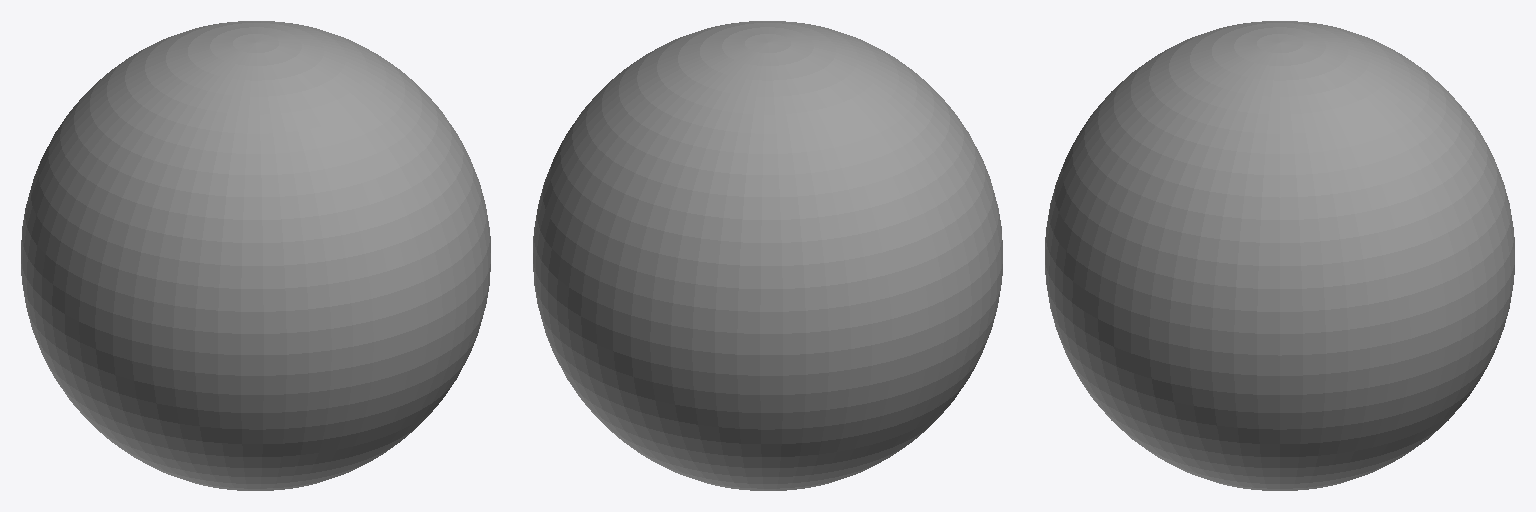
The model's file is planet_1.obj.
3 renders of one model, left to right at view 1: azimuth 30°, elevation 25°; view 2: azimuth 150°, elevation 25°; view 3: azimuth 270°, elevation 25°, orthographic.
Parts seen in each view (by area): view 1: Sphere; view 2: Sphere; view 3: Sphere.
Boxes of the visible parts, x1=… form: Sphere: x1=21, y1=21, x2=490, y2=490; Sphere: x1=533, y1=21, x2=1002, y2=490; Sphere: x1=1045, y1=21, x2=1514, y2=490.
Size of the model in its own units: 6 by 6 by 6.